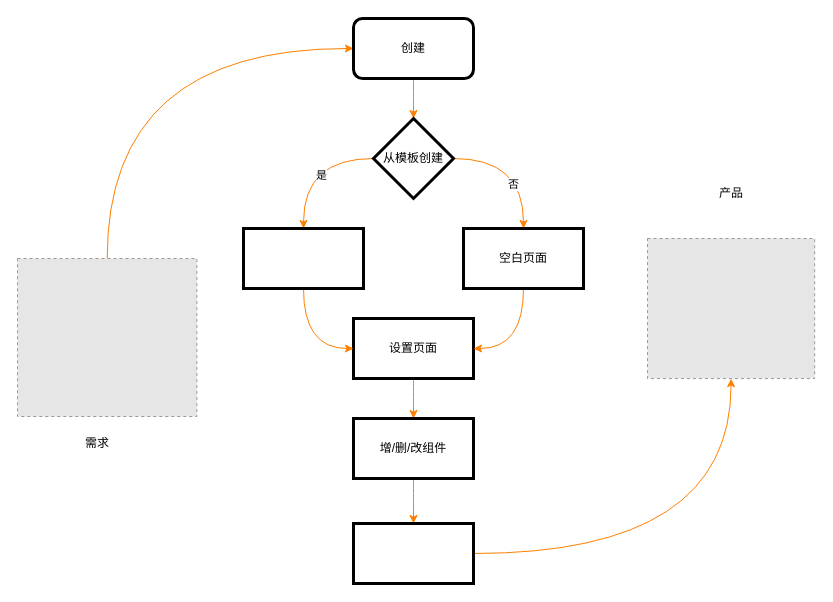
This 833x602 diagram has some shape labels left out. Grey dashed boxes stand in for pictures. The shapes that lost their labels are listed below. From the top down, each one's box as (x1, y1, x2, y2) in pixels, then its label:
(242, 226, 364, 290): 模版
(352, 522, 474, 584): 发布项目
